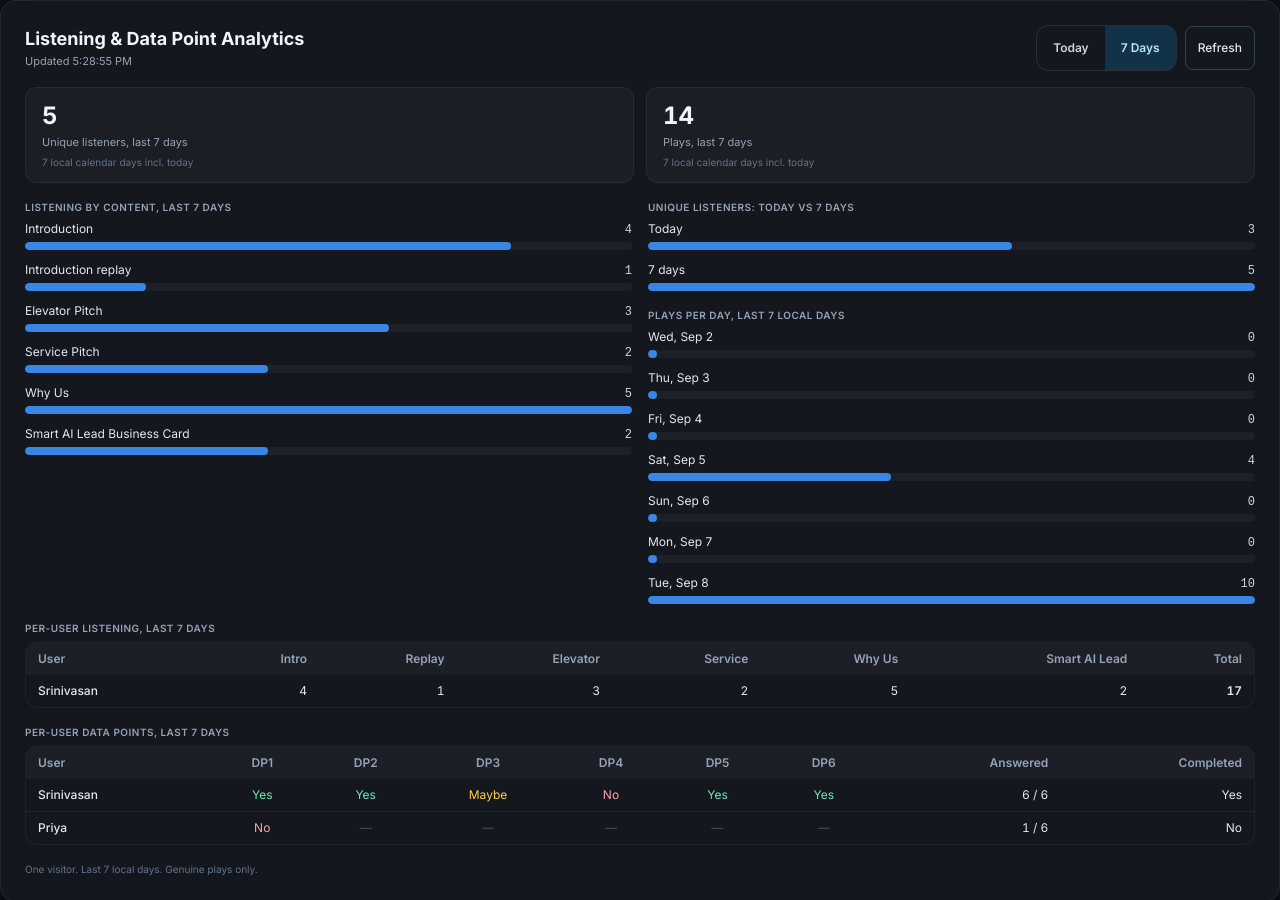
Test: the page › Today → 7 Days → Today: each switch is exactly ONE request through the same poll, and every section follows the range
The width and height of the screenshot is (1280, 900).
Expected: the table with test id "per-user-listening" is shown, [26,643,1254,707]
What coordinates should you click on to do the following:
click the button "Today"
I would click on:
 (1071, 48)
Its box is [1037,26,1105,70].
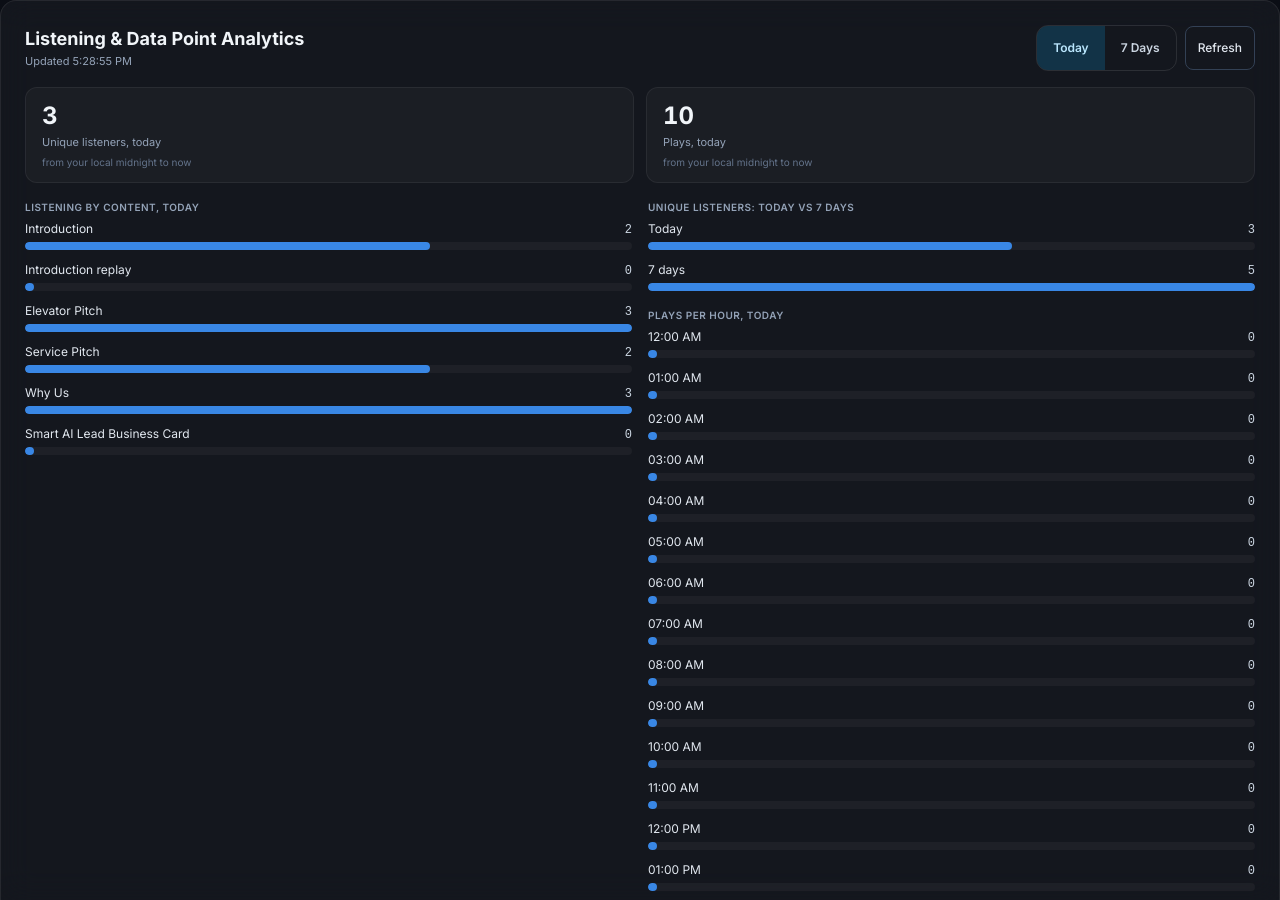
Now the element with test id "listen-range-users" shows "3", box [42,101,58,130]
Now the element with test id "listen-range-plays" shows "10", box [663,101,694,130]
Now the element with test id "trend-section" shows "Plays per hour, today", box [648,309,784,321]
What coordinates should you click on to do the following:
click the button "7 Days"
I would click on:
 (1140, 48)
Its box is [1105,26,1176,70].
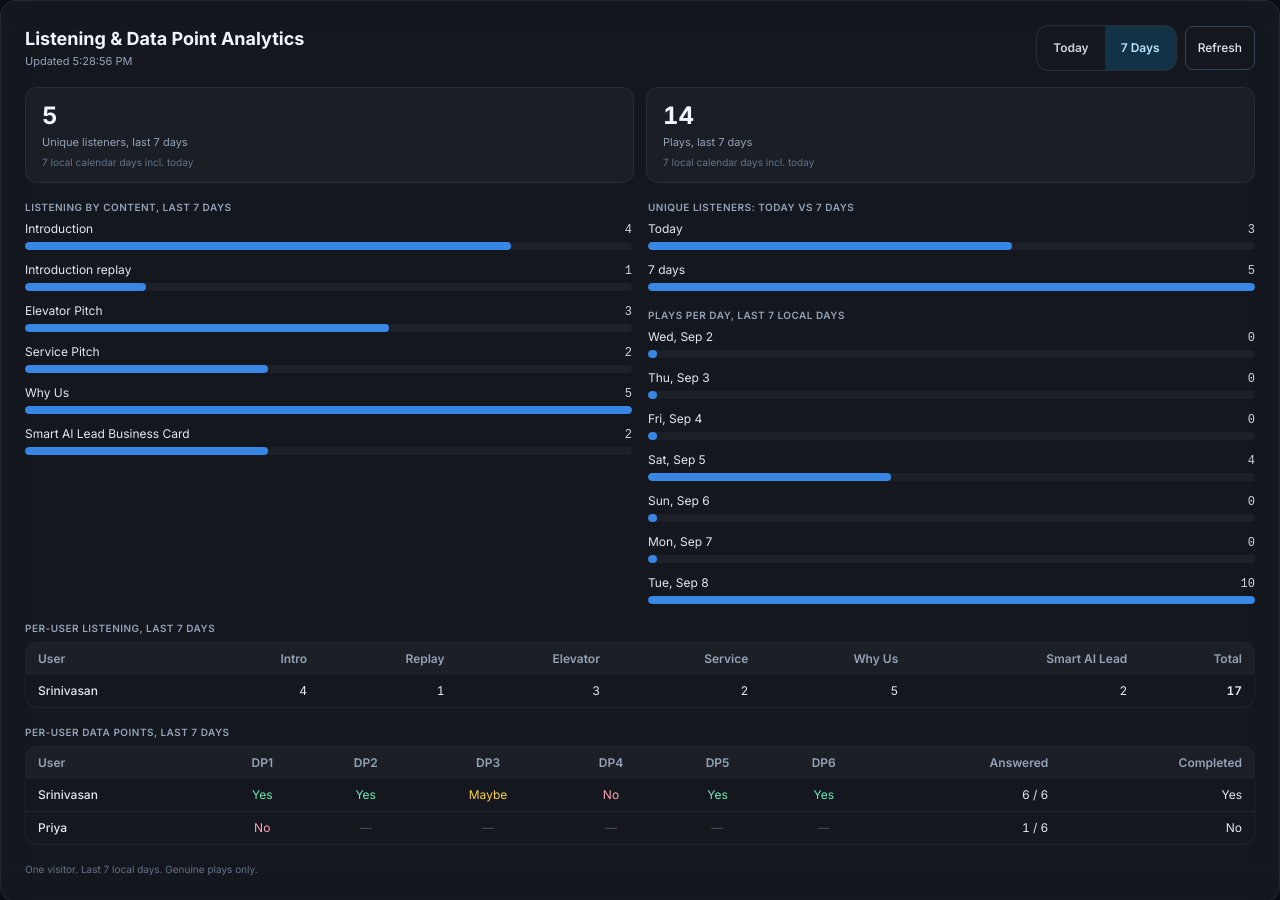
Now the element with test id "listen-range-users" shows "5", box [42,101,58,130]
Now the element with test id "trend-section" shows "Plays per day, last 7 local days", box [648,309,845,321]
